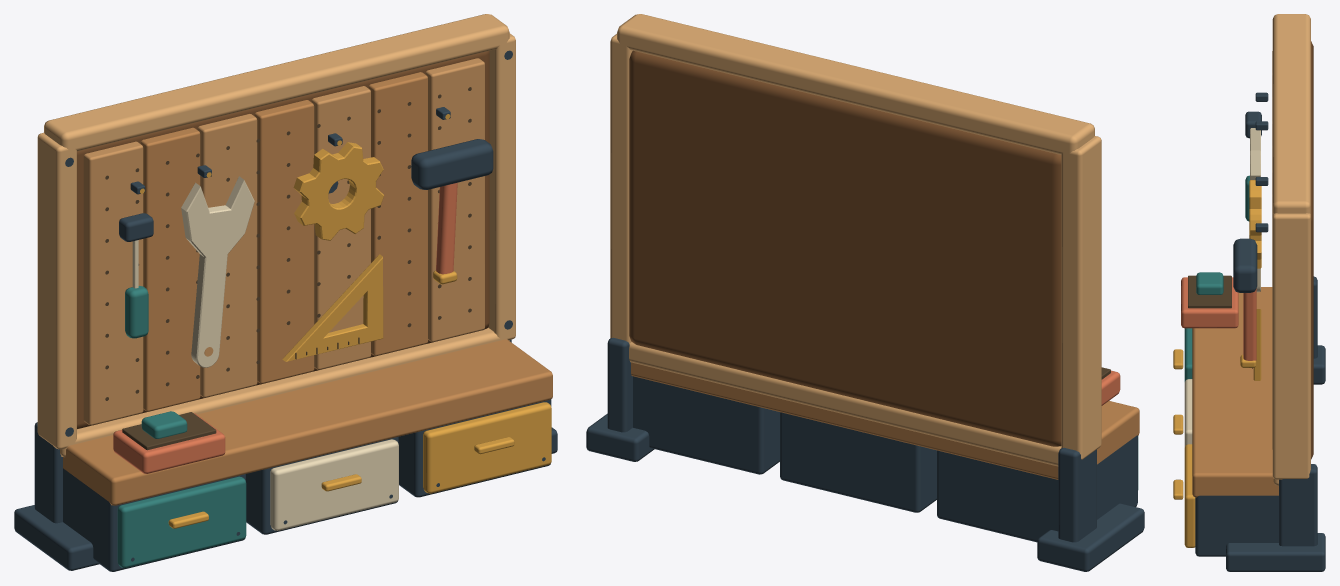
The model's file is workshop-tool-rack-light-no-plants.glb.
3 views of the same model, side by side, from view 1: azimuth 30°, elevation 25°; view 2: azimuth 150°, elevation 25°; view 3: azimuth 270°, elevation 25° (orthographic). The views are drawn at different scales.
Visible parts, largest first — view 1: timber, plank, edge, brass, navy, cream, teal, darkWood, coral, shadow; view 2: darkWood, edge, navy, timber; view 3: edge, timber, navy, brass, coral, teal, cream, darkWood, shadow, plank.
Boxes of the visible parts, bbox=[...] form: timber: bbox=[63, 72, 552, 505]; plank: bbox=[83, 58, 484, 425]; edge: bbox=[37, 14, 515, 457]; brass: bbox=[140, 114, 551, 528]; navy: bbox=[14, 50, 557, 571]; cream: bbox=[132, 176, 398, 530]; teal: bbox=[117, 286, 246, 567]; darkWood: bbox=[77, 51, 489, 428]; coral: bbox=[113, 182, 457, 473]; shadow: bbox=[105, 87, 471, 450]; darkWood: bbox=[629, 50, 1061, 446]; edge: bbox=[610, 14, 1101, 466]; navy: bbox=[586, 337, 1144, 571]; timber: bbox=[631, 362, 1139, 479]; edge: bbox=[1272, 14, 1310, 485]; timber: bbox=[1192, 75, 1278, 497]; navy: bbox=[1195, 92, 1325, 571]; brass: bbox=[1173, 180, 1261, 547]; coral: bbox=[1181, 277, 1256, 360]; teal: bbox=[1184, 175, 1249, 381]; cream: bbox=[1184, 128, 1260, 447]; darkWood: bbox=[1311, 41, 1313, 459]; shadow: bbox=[1188, 275, 1252, 368]; plank: bbox=[1272, 51, 1272, 449].
Size of the model in its own units: 1.54 by 1.25 by 0.4735.
